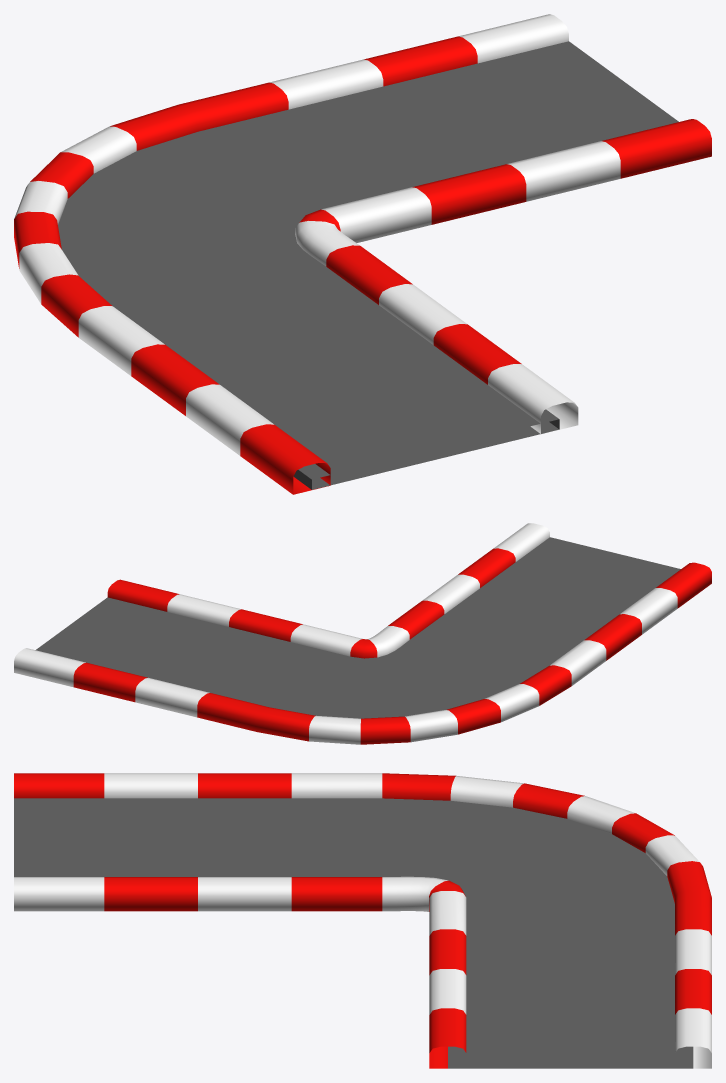
The model's file is CurvedTrack01.fbx.
3 renders of one model, top to bottom at view 1: azimuth 30°, elevation 25°; view 2: azimuth 150°, elevation 25°; view 3: azimuth 270°, elevation 25°, orthographic. The views are drawn at different scales.
Parts seen in each view (by area): view 1: CurvedTrack01; view 2: CurvedTrack01; view 3: CurvedTrack01.
Part boxes in pixels (<box>): CurvedTrack01: <box>14,14,711,494</box>; CurvedTrack01: <box>14,523,711,744</box>; CurvedTrack01: <box>14,773,711,1068</box>.
Size of the model in its own units: 4802 by 178 by 5117.
